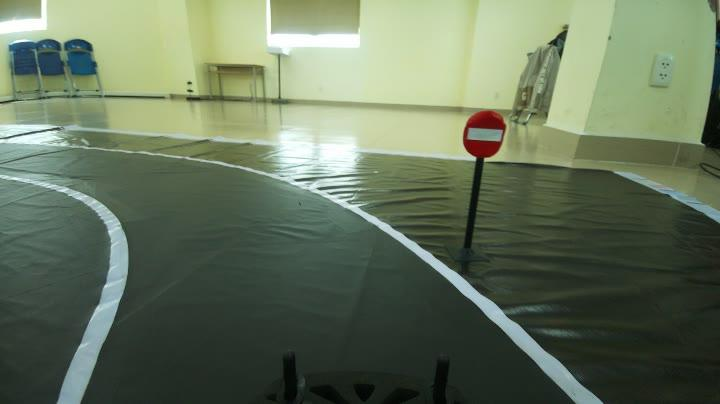no_entry: (461, 106, 512, 162)
